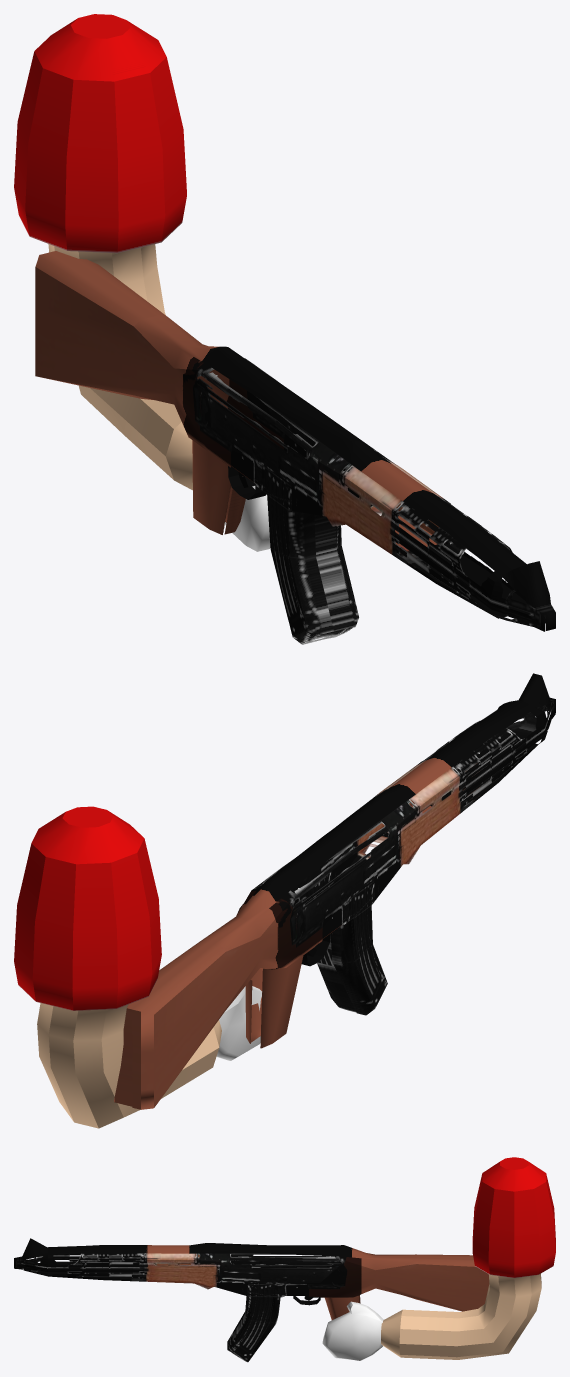
File: L_hands_rifle_r.obj
3 views of the same model, one above another, from view 1: azimuth 30°, elevation 25°; view 2: azimuth 150°, elevation 25°; view 3: azimuth 270°, elevation 25° (orthographic). The views are drawn at different scales.
Parts seen in each view (by area): view 1: L pasted__pasted__pCube3, pCylinder4 group5 L, group5 L pasted__pCube3; view 2: L pasted__pasted__pCube3, pCylinder4 group5 L, group5 L pasted__pCube3; view 3: L pasted__pasted__pCube3, pCylinder4 group5 L, group5 L pasted__pCube3.
Part boxes in pixels (x1,y1,x2,y2): L pasted__pasted__pCube3: (35, 251, 555, 644); pCylinder4 group5 L: (14, 14, 192, 490); group5 L pasted__pCube3: (224, 486, 270, 551); L pasted__pasted__pCube3: (114, 673, 555, 1109); pCylinder4 group5 L: (14, 806, 221, 1128); group5 L pasted__pCube3: (216, 986, 261, 1060); L pasted__pasted__pCube3: (14, 1238, 489, 1362); pCylinder4 group5 L: (381, 1157, 555, 1359); group5 L pasted__pCube3: (322, 1301, 383, 1360).
Size of the model in its own units: 0.2246 by 0.5842 by 1.39.
Materials: 1 (1 with a texture image).
